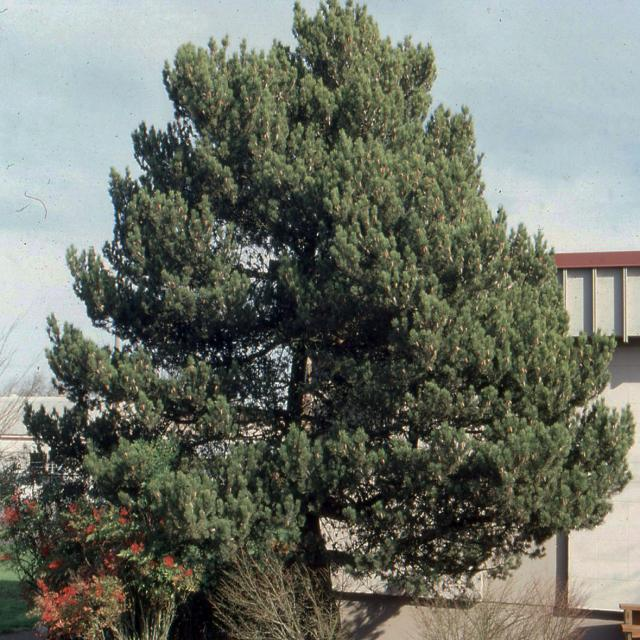Pinus contorta var: (19, 4, 636, 577)
